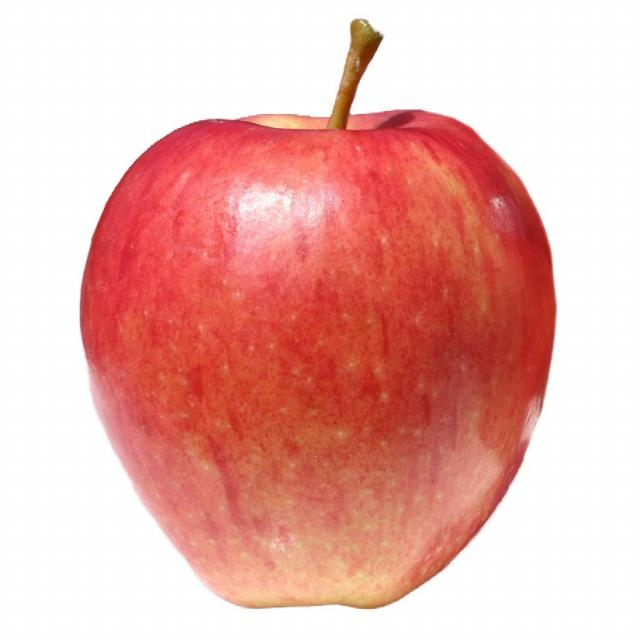Apple: (77, 20, 561, 612)
